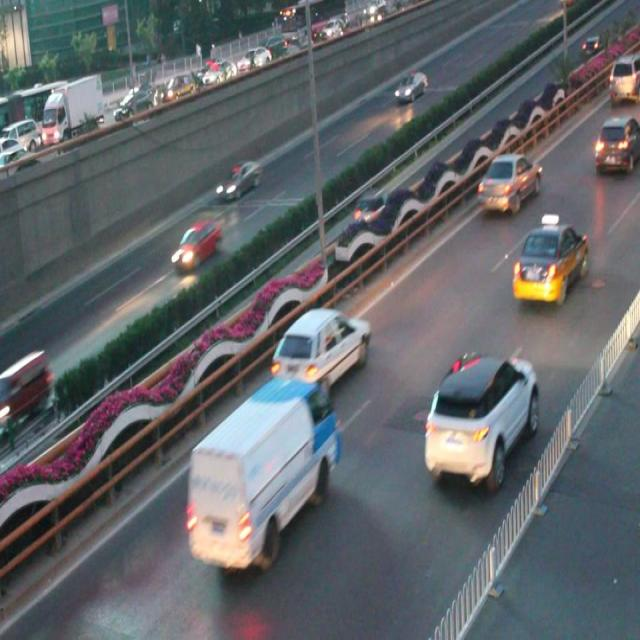car: (422, 348, 538, 486), (270, 306, 370, 393), (511, 218, 587, 305), (476, 150, 542, 219), (592, 115, 640, 173), (172, 218, 222, 273), (215, 158, 262, 204), (350, 187, 394, 226), (392, 69, 427, 106)
truck: (185, 384, 336, 567), (9, 339, 53, 424)
